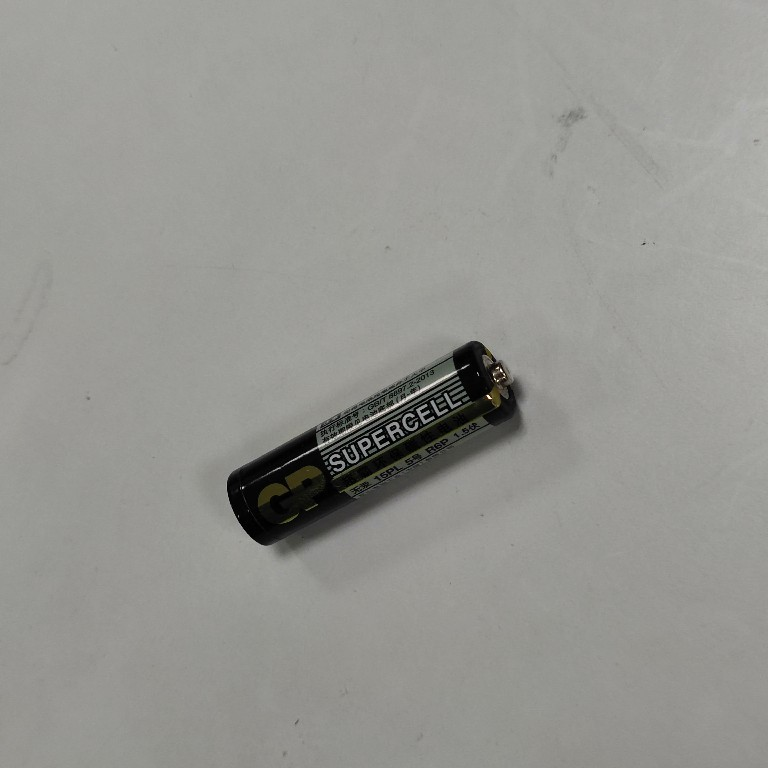charge: (221, 335, 523, 552)
